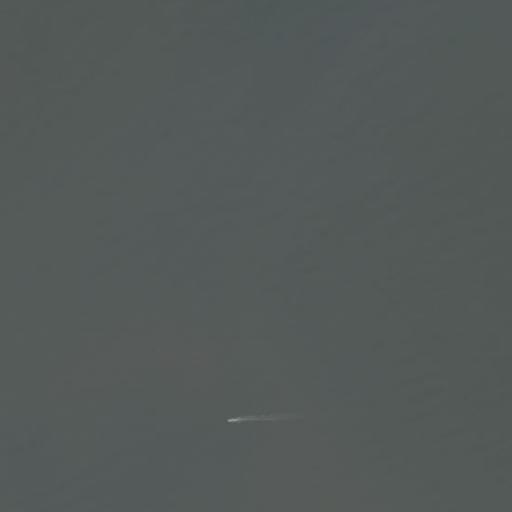ship: (225, 415, 243, 425)
